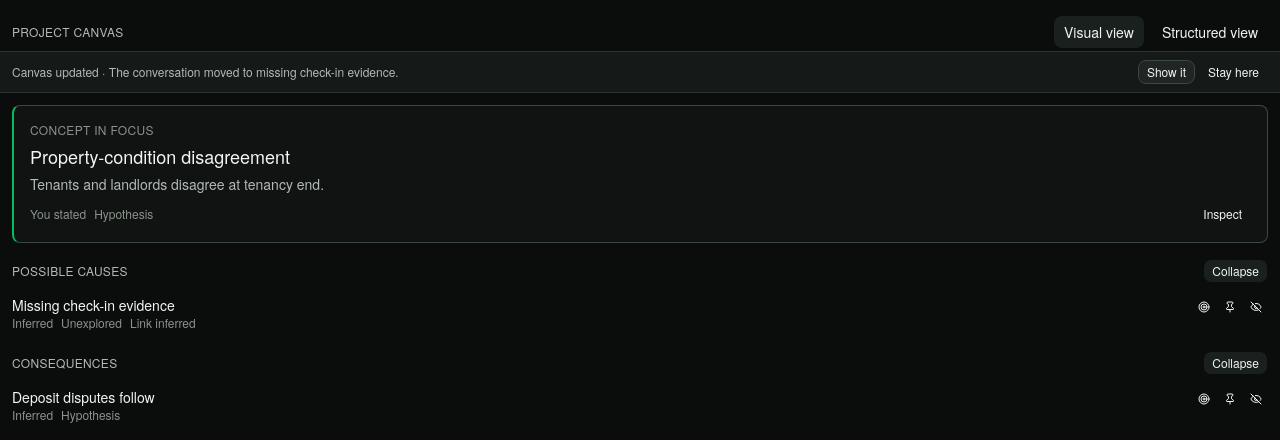
Test: recommended scenes › applies the recommendation only when the user takes it
What coordinates should you click on to do the following:
click the button "Show it"
I would click on:
 (1166, 72)
Its box is [1138,60,1195,84].
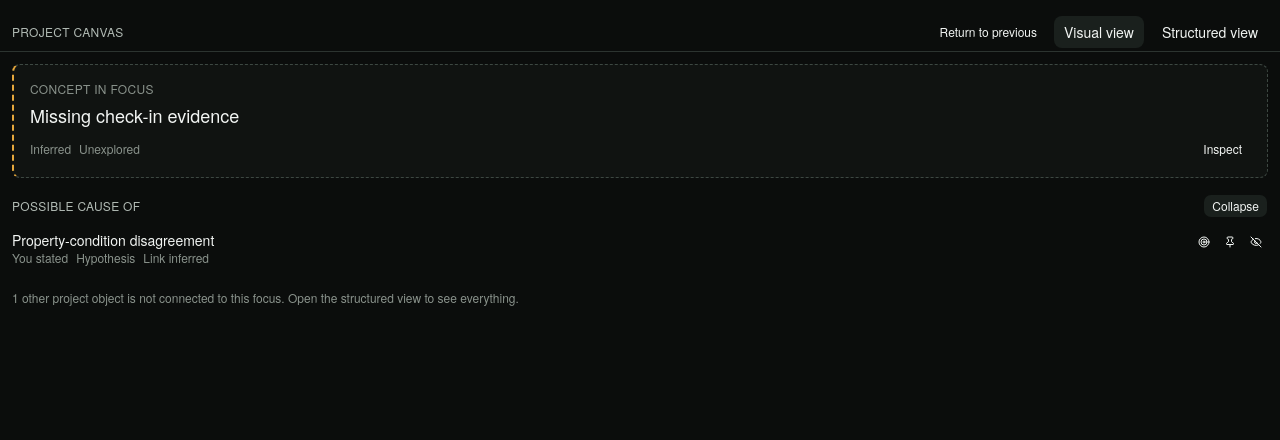
Now the element named "Object in focus" shows "Missing check-in evidence", box [30,102,239,128]
